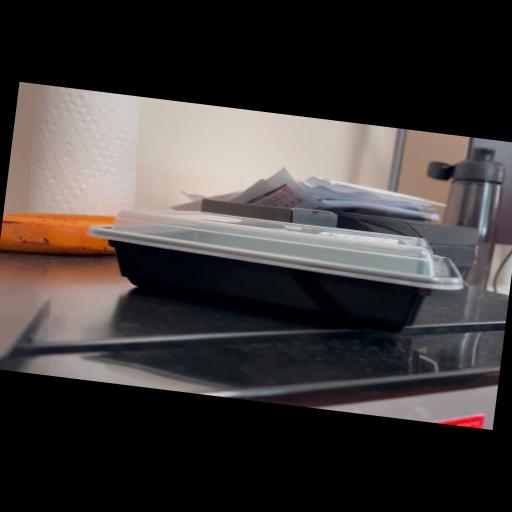rigid_plastic_container: (91, 180, 474, 346)
